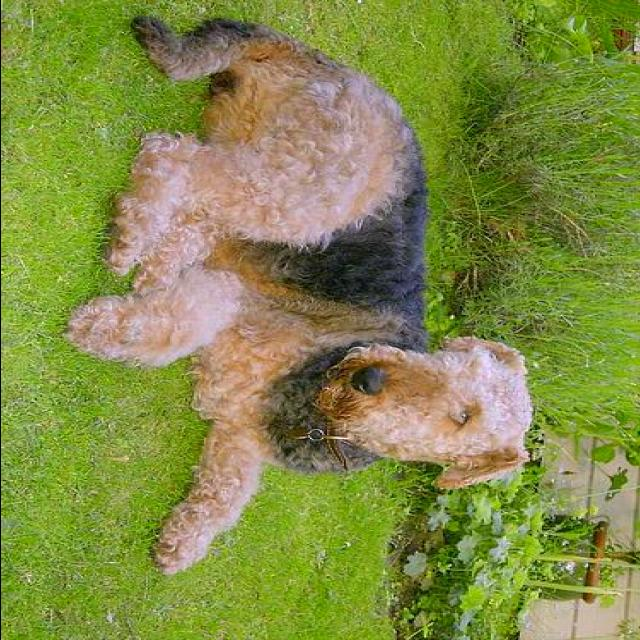airedale: (59, 14, 532, 577)
